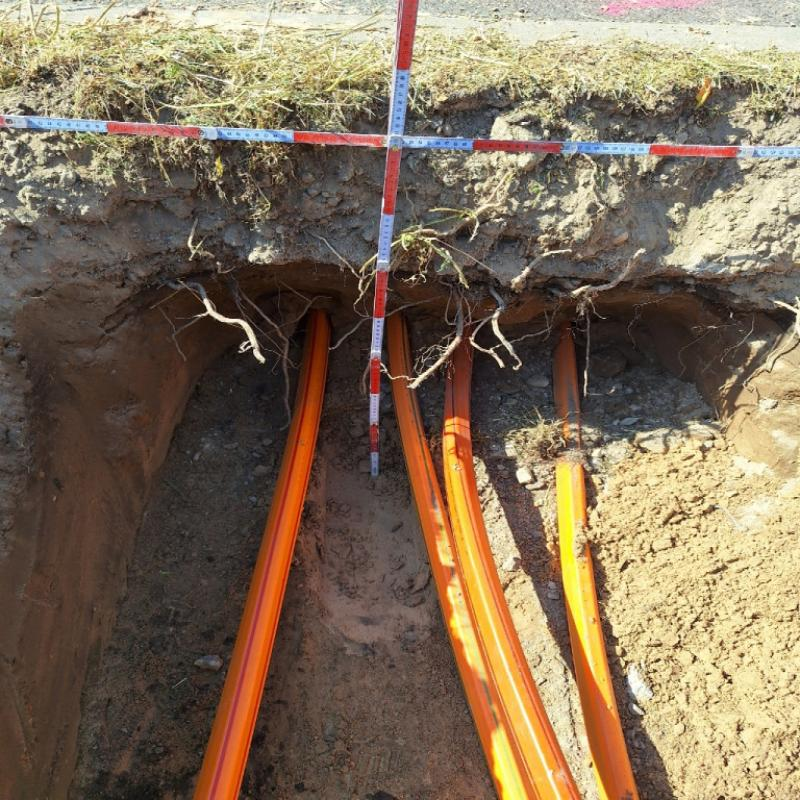Orang-Speednetrohrchen: (382, 329, 537, 800), (198, 324, 340, 799), (442, 349, 580, 800), (548, 332, 637, 800)
